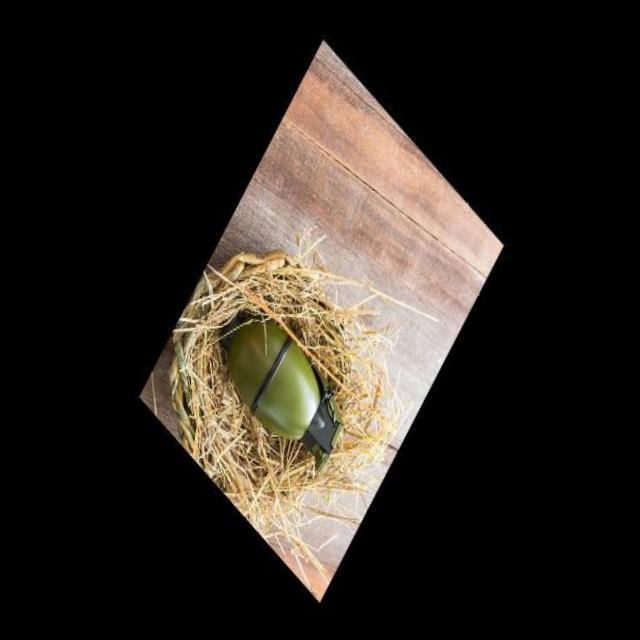grenade: (206, 301, 353, 487)
